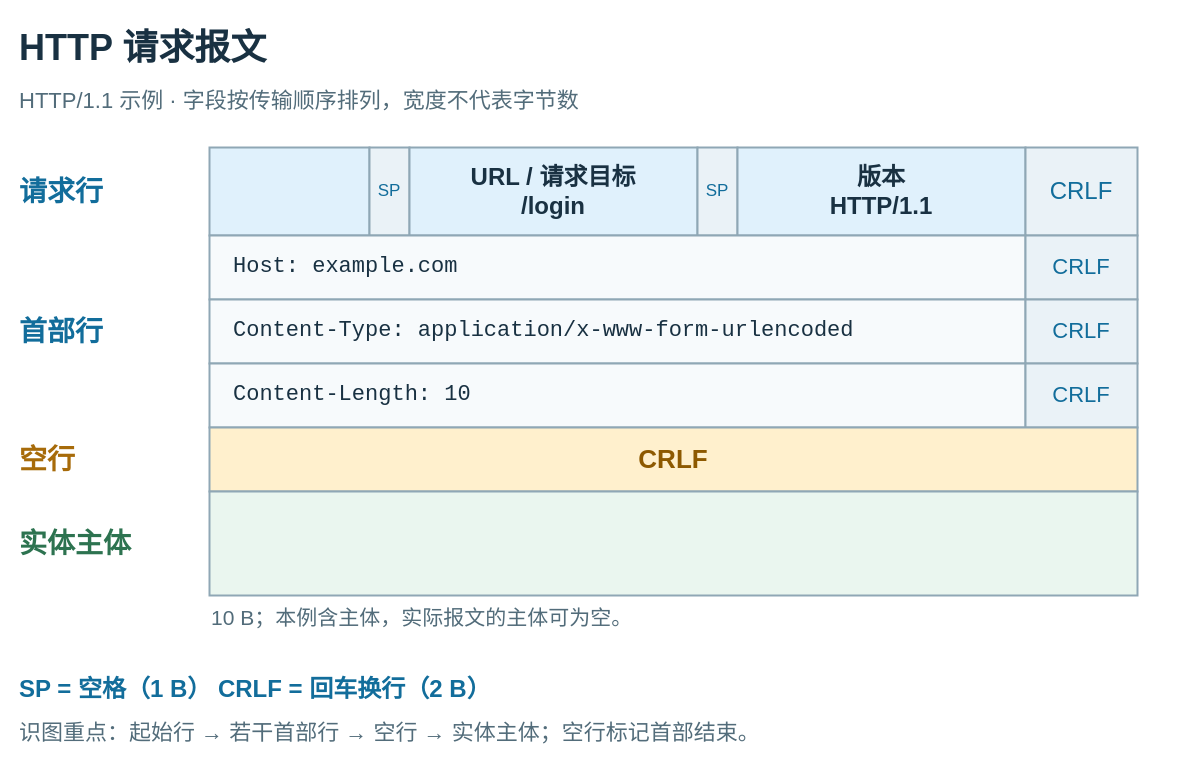
This 1194x768 diagram has some shape labels left out. Each missing label, with the centre of its shape:
"name=alice" goes at point 673,543.
"方法 POST" goes at point 289,191.
